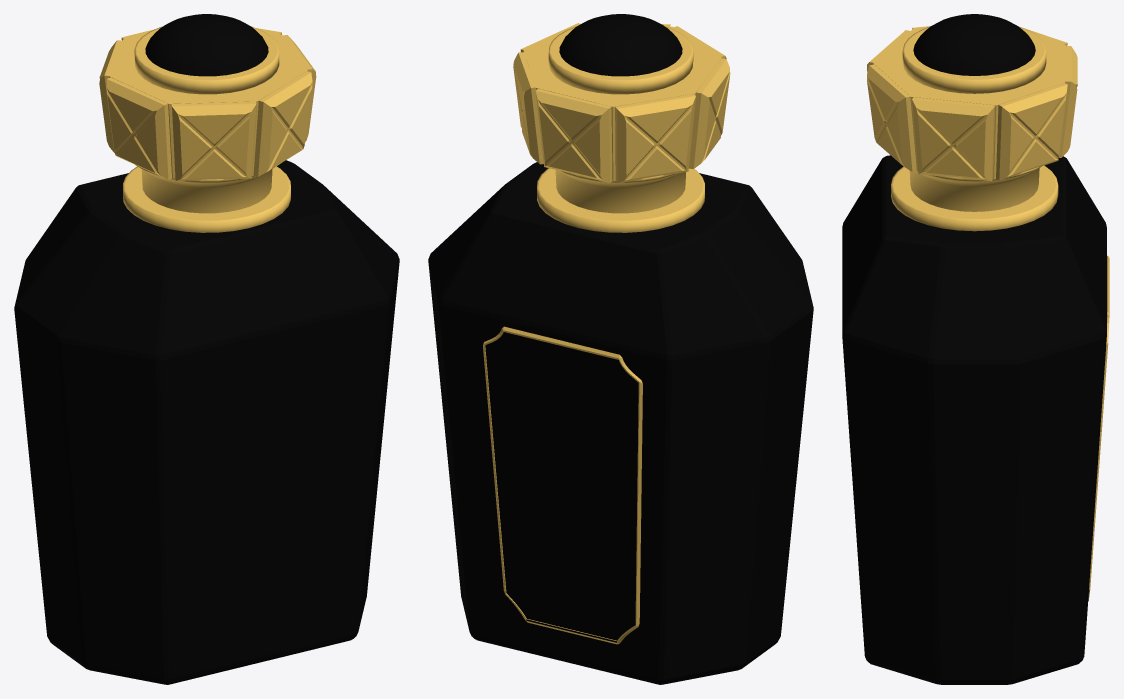
Rendered from durra_bottle_hero.glb.
3 views of the same model, side by side, from view 1: azimuth 30°, elevation 25°; view 2: azimuth 150°, elevation 25°; view 3: azimuth 270°, elevation 25° (orthographic).
Parts seen in each view (by area): view 1: body, Cube; view 2: body, Cube; view 3: body, Cube.
Part boxes in pixels (x1,y1,x2,y2): body: [14, 160, 399, 684]; Cube: [99, 14, 316, 213]; body: [428, 162, 813, 684]; Cube: [513, 14, 730, 213]; body: [842, 155, 1109, 684]; Cube: [867, 14, 1077, 211].
Size of the model in its own units: 0.1194 by 0.2012 by 0.0816.
4 materials, 4 textured.
